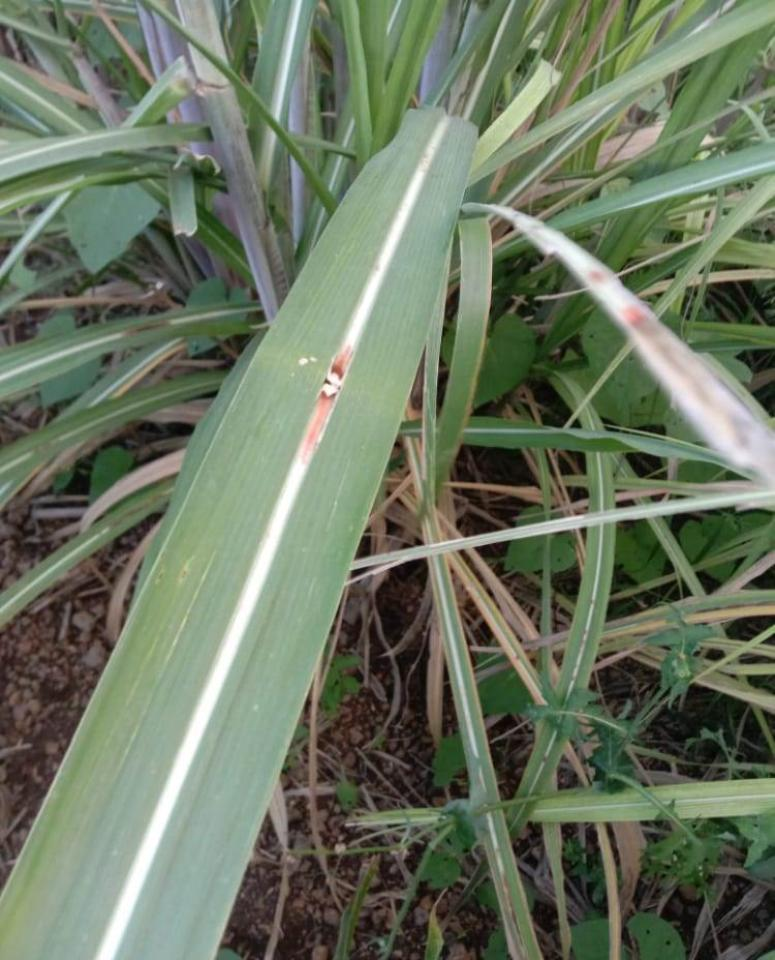RedRot: (301, 346, 352, 464)
